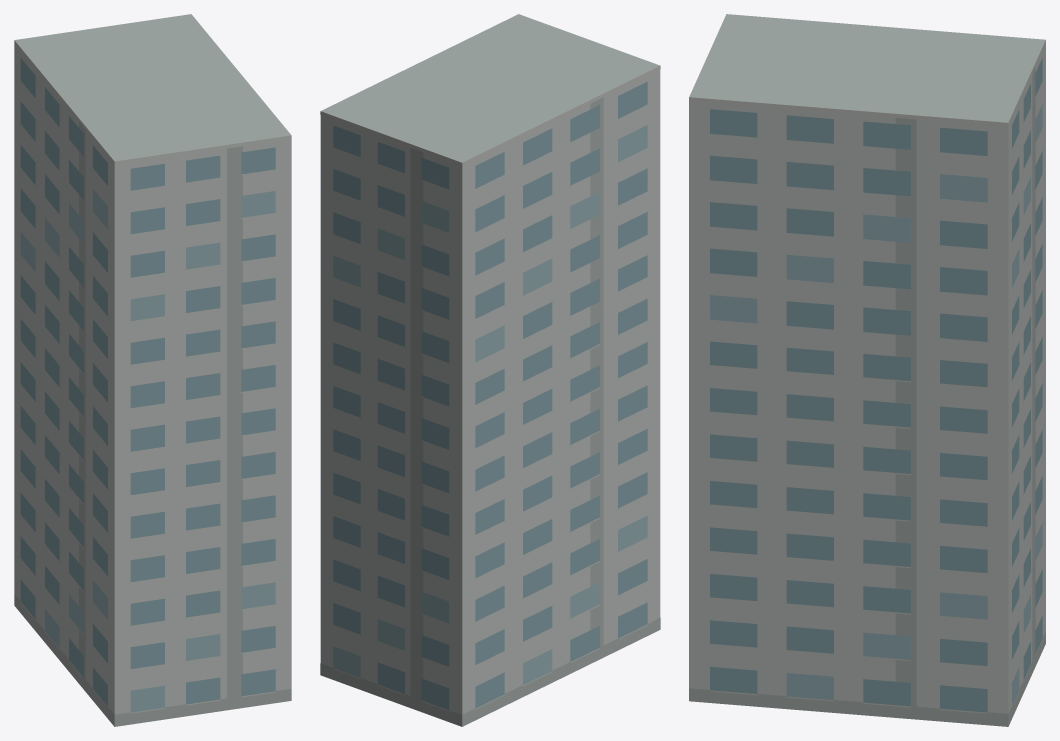
File: residential-ebb6fea0-7643-4d1e-b1c5-2f09a1bee9ee.glb
The picture shows the model from 3 angles, left to right: view 1: azimuth 30°, elevation 25°; view 2: azimuth 150°, elevation 25°; view 3: azimuth 270°, elevation 25°; orthographic projection. The views are drawn at different scales.
Parts seen in each view (by area): view 1: residential-ebb6fea0-7643-4d1e-b1c5-2f09a1bee9ee.tmp; view 2: residential-ebb6fea0-7643-4d1e-b1c5-2f09a1bee9ee.tmp; view 3: residential-ebb6fea0-7643-4d1e-b1c5-2f09a1bee9ee.tmp.
Boxes of the visible parts, left/top/right/bottom form: residential-ebb6fea0-7643-4d1e-b1c5-2f09a1bee9ee.tmp: left=14, top=14, right=291, bottom=726; residential-ebb6fea0-7643-4d1e-b1c5-2f09a1bee9ee.tmp: left=320, top=14, right=660, bottom=726; residential-ebb6fea0-7643-4d1e-b1c5-2f09a1bee9ee.tmp: left=689, top=14, right=1045, bottom=726.
Size of the model in its own units: 14.31 by 37 by 19.82.
